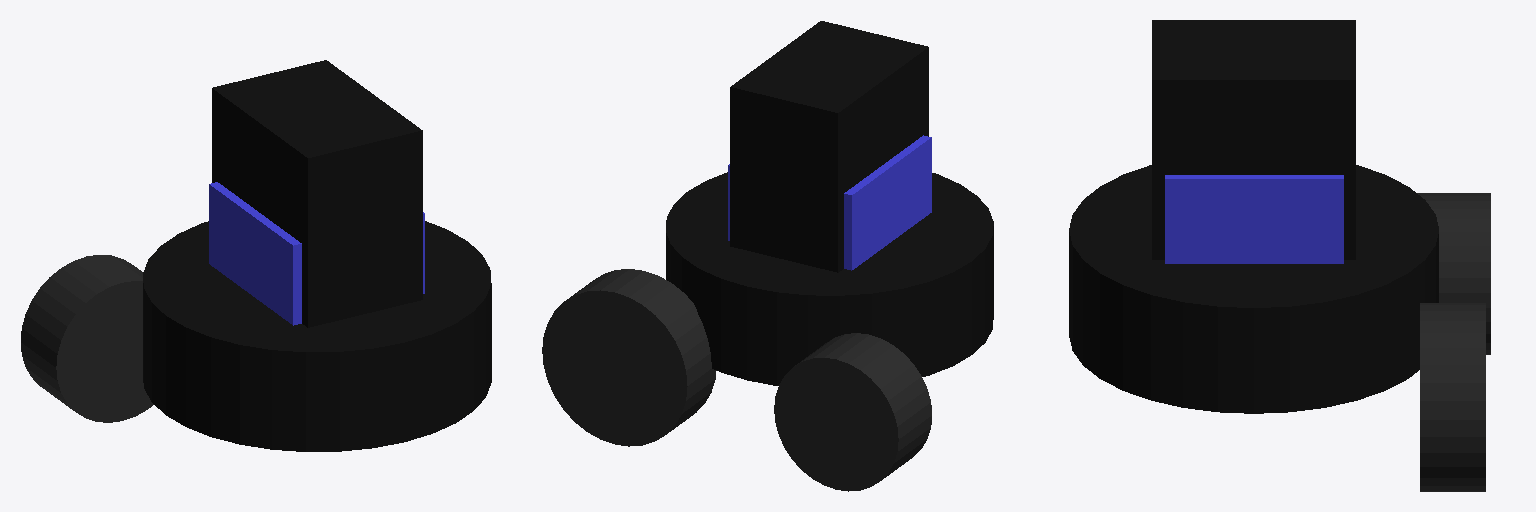
robot.urdf — evolved_robot:
<?xml version="1.0"?>
<robot name="evolved_robot">
  <material name="metal">
    <color rgba="0.7 0.7 0.7 1.0"/>
  </material>
  <material name="plastic">
    <color rgba="0.3 0.3 0.9 1.0"/>
  </material>
  <material name="rubber">
    <color rgba="0.1 0.1 0.1 1.0"/>
  </material>
  <material name="red">
    <color rgba="1.0 0.0 0.0 1.0"/>
  </material>
  <material name="wheel_material">
    <color rgba="0.2 0.2 0.2 1.0"/>
  </material>
  <link name="base_link">
    <visual>
      <geometry><cylinder radius="0.14140624607870966" length="0.08906482229332736"/></geometry>
      <material name="rubber"/>
    </visual>
    <collision>
      <geometry><cylinder radius="0.14140624607870966" length="0.08906482229332736"/></geometry>
    </collision>
    <inertial>
      <mass value="5.0"/>
      <inertia ixx="0.05659976821696646" ixy="0" ixz="0" 
               iyy="0.05659976821696646" iyz="0" 
               izz="0.09997863215036296"/>
    </inertial>
  </link>
  <link name="link1">
    <visual>
      <geometry><box size="0.12342174421978416 0.13643111657026336 0.1427863277072362"/></geometry>
      <material name="plastic"/>
    </visual>
    <collision>
      <geometry><box size="0.12342174421978416 0.13643111657026336 0.1427863277072362"/></geometry>
    </collision>
    <inertial>
      <mass value="0.5"/>
      <inertia ixx="0.0032501154123939203" ixy="0" ixz="0" 
               iyy="0.0029684051938643394" iyz="0" 
               izz="0.0028205313762385514"/>
    </inertial>
  </link>
  <joint name="joint1" type="prismatic">
    <parent link="base_link"/>
    <child link="link1"/>
    <origin xyz="0 0 0.04453241114666368" rpy="0 0 0"/>
    <axis xyz="-0.6398376731273089 -0.6238147353935081 -0.44884621860160356"/>
    <dynamics damping="0.6439134469997867" friction="0.1"/>
    <limit lower="-0.9295483361181153" upper="1.116764629231451" effort="100" velocity="100"/>
  </joint>
  <link name="link2">
    <visual>
      <geometry>
        <cylinder radius="0.0721658289576909" length="0.05085709238639688"/>
      </geometry>
      <material name="wheel_material"/>
    </visual>
    <collision>
      <geometry>
        <cylinder radius="0.0721658289576909" length="0.05085709238639688"/>
      </geometry>
    </collision>
    <inertial>
      <mass value="1.0"/>
      <inertia ixx="0.0015175137044542168" ixy="0" ixz="0" 
               iyy="0.0015175137044542168" iyz="0" 
               izz="0.0026039534345753492"/>
    </inertial>
  </link>
  <joint name="joint2" type="continuous">
    <parent link="base_link"/>
    <child link="link2"/>
    <origin xyz="0.11100288783856134 0.15180960431885798 -0.04453241114666368" rpy="1.5708 0 0"/>
    <axis xyz="0 1 0"/>
    <dynamics damping="0.6987224260398152" friction="0.1"/>
  </joint>
  <link name="link3">
    <visual>
      <geometry><box size="0.10715585173854075 0.15601743773970136 0.20291855682027354"/></geometry>
      <material name="rubber"/>
    </visual>
    <collision>
      <geometry><box size="0.10715585173854075 0.15601743773970136 0.20291855682027354"/></geometry>
    </collision>
    <inertial>
      <mass value="0.5"/>
      <inertia ixx="0.0054597817984070145" ixy="0" ixz="0" 
               iyy="0.004388193105319559" iyz="0" 
               izz="0.002985318120056143"/>
    </inertial>
  </link>
  <joint name="joint3" type="prismatic">
    <parent link="base_link"/>
    <child link="link3"/>
    <origin xyz="0 0 0.09453241114666369" rpy="0 0 0"/>
    <axis xyz="-0.2445164498077766 0.8592455832747465 -0.4493425568497177"/>
    <dynamics damping="0.7797290613230804" friction="0.1"/>
    <limit lower="-1.6464221671866734" upper="1.9731577111366114" effort="100" velocity="100"/>
  </joint>
  <link name="link4">
    <visual>
      <geometry>
        <cylinder radius="0.06185335141870561" length="0.05801654852392829"/>
      </geometry>
      <material name="wheel_material"/>
    </visual>
    <collision>
      <geometry>
        <cylinder radius="0.06185335141870561" length="0.05801654852392829"/>
      </geometry>
    </collision>
    <inertial>
      <mass value="1.0"/>
      <inertia ixx="0.0012369525956505835" ixy="0" ixz="0" 
               iyy="0.0012369525956505835" iyz="0" 
               izz="0.0019129185408629458"/>
    </inertial>
  </link>
  <joint name="joint4" type="continuous">
    <parent link="base_link"/>
    <child link="link4"/>
    <origin xyz="-0.11100288783856134 0.15180960431885798 -0.04453241114666368" rpy="1.5708 0 0"/>
    <axis xyz="0 1 0"/>
    <dynamics damping="0.7617778135493298" friction="0.1"/>
  </joint>
</robot>

--- Render facts (derived) ---
The picture shows the robot from 3 angles, left to right: view 1: azimuth 30°, elevation 25°; view 2: azimuth 150°, elevation 25°; view 3: azimuth 270°, elevation 25°; orthographic projection.
Robot: evolved_robot — 5 links, 4 joints (2 continuous, 2 prismatic); root link base_link; default pose: all joints at 0.
Visible links, largest first — view 1: base_link, link3, link4, link1; view 2: base_link, link3, link2, link4, link1; view 3: base_link, link3, link1, link2, link4.
Link boxes in pixels (<box>): base_link: <box>143,221,491,451</box>; link3: <box>212,60,422,327</box>; link4: <box>21,255,153,422</box>; link1: <box>209,182,424,325</box>; base_link: <box>666,172,993,385</box>; link3: <box>730,21,928,272</box>; link2: <box>542,269,716,446</box>; link4: <box>774,333,931,491</box>; link1: <box>728,135,931,270</box>; base_link: <box>1069,165,1438,413</box>; link3: <box>1152,20,1355,259</box>; link1: <box>1165,175,1343,263</box>; link2: <box>1420,303,1485,491</box>; link4: <box>1417,193,1490,354</box>.
Bounding box of the posed robot: 0.356 × 0.3222 × 0.3127 m (x, y, z).
Geometry: primitives only (box / cylinder / sphere), no mesh files.